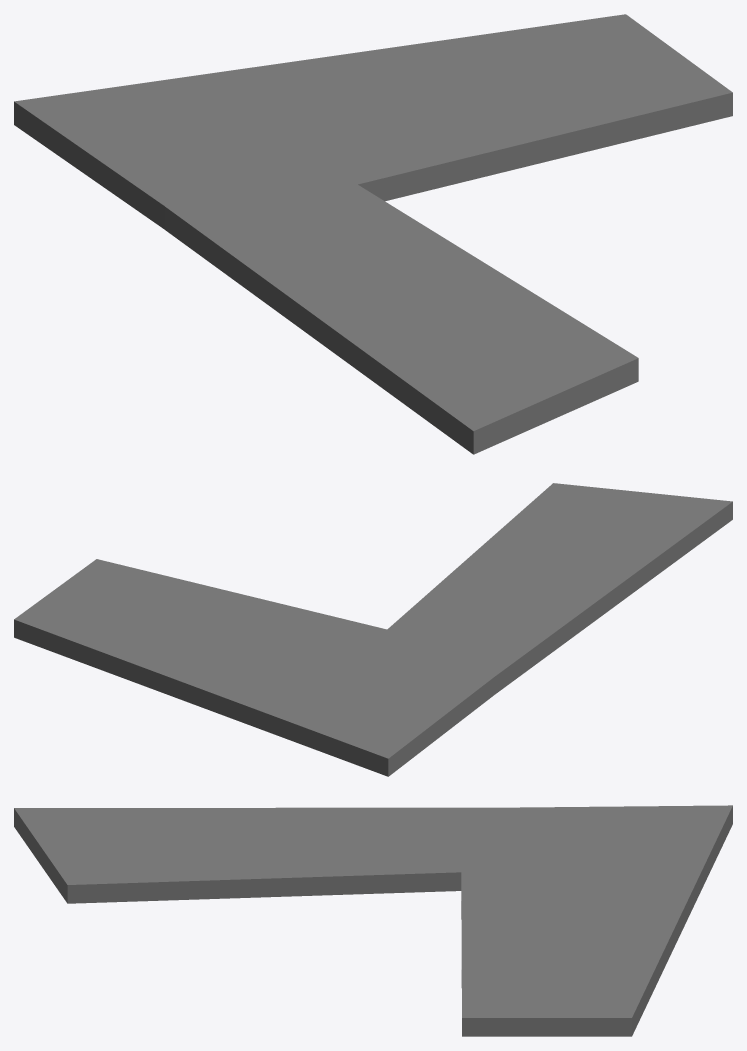
Rendered from Floor3_stair platform.fbx.
The picture shows the model from 3 angles, top to bottom: view 1: azimuth 30°, elevation 25°; view 2: azimuth 150°, elevation 25°; view 3: azimuth 270°, elevation 25°; orthographic projection. The views are drawn at different scales.
Visible parts, largest first — view 1: Floor1_Specular Level Mesh (1); view 2: Floor1_Specular Level Mesh (1); view 3: Floor1_Specular Level Mesh (1).
Part boxes in pixels (box(x1,y1,x2,y2)): Floor1_Specular Level Mesh (1): box(14, 14, 732, 454); Floor1_Specular Level Mesh (1): box(14, 483, 732, 776); Floor1_Specular Level Mesh (1): box(14, 805, 732, 1036).
Bounding box in the file's own units: 30.5 × 1.25 × 43.63.
